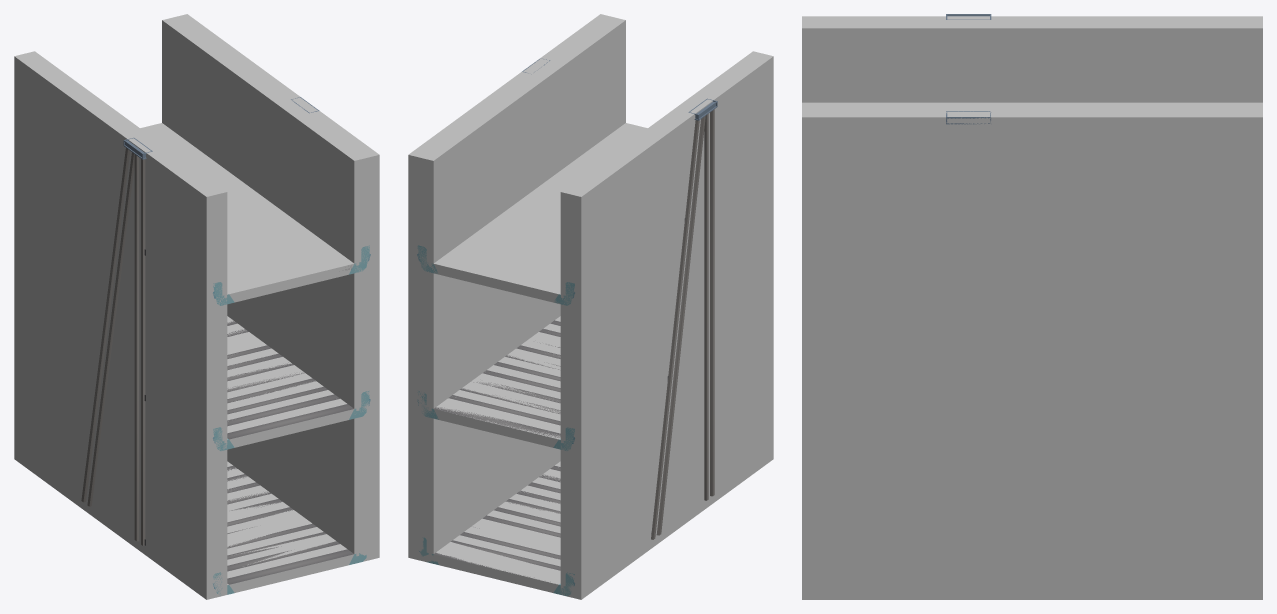
File: SM_Car_Park_System.fbx
The picture shows the model from 3 angles, left to right: view 1: azimuth 30°, elevation 25°; view 2: azimuth 150°, elevation 25°; view 3: azimuth 270°, elevation 25°; orthographic projection. The views are drawn at different scales.
Parts seen in each view (by area): view 1: SM_Car_Park_System_ConvexHulls, SM_Car_Park_System; view 2: SM_Car_Park_System_ConvexHulls, SM_Car_Park_System; view 3: SM_Car_Park_System_ConvexHulls.
Part boxes in pixels (x1,y1,x2,y2): SM_Car_Park_System_ConvexHulls: (14, 14, 379, 599); SM_Car_Park_System: (81, 97, 370, 595); SM_Car_Park_System_ConvexHulls: (408, 14, 773, 599); SM_Car_Park_System: (417, 58, 717, 596); SM_Car_Park_System_ConvexHulls: (802, 16, 1262, 599).
Size of the model in its own units: 383 by 720 by 832.
Materials: 2 (1 with a texture image).
